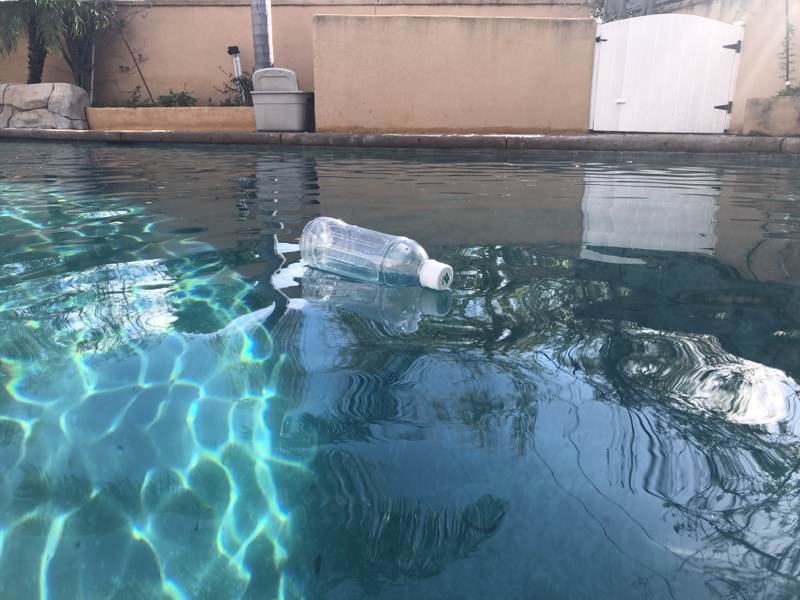Plastic Bottle: (297, 216, 456, 295)
